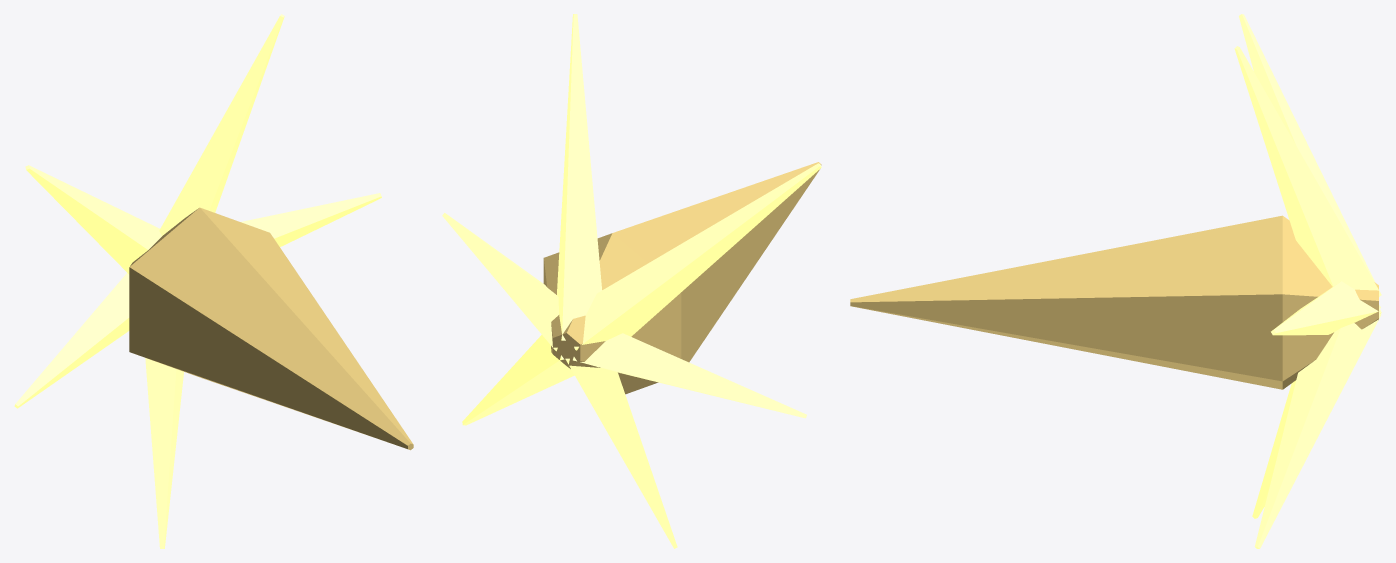
The model's file is SM_MuzzleFlash_A.fbx.
The picture shows the model from 3 angles, left to right: view 1: azimuth 30°, elevation 25°; view 2: azimuth 150°, elevation 25°; view 3: azimuth 270°, elevation 25°; orthographic projection. The views are drawn at different scales.
Visible parts, largest first — view 1: MuzzleFlash_A; view 2: MuzzleFlash_A; view 3: MuzzleFlash_A.
Part boxes in pixels (bbox=[...]): MuzzleFlash_A: bbox=[14, 14, 413, 548]; MuzzleFlash_A: bbox=[442, 14, 821, 548]; MuzzleFlash_A: bbox=[850, 14, 1381, 548].
Size of the model in its own units: 45.77 by 55.3 by 60.46.
